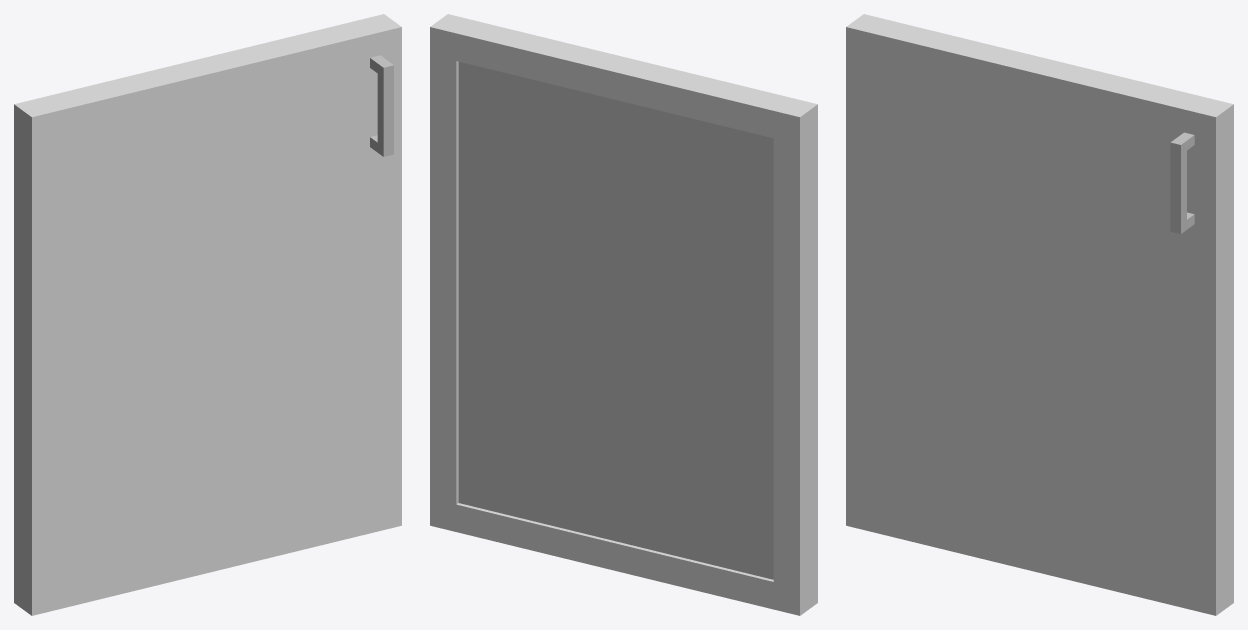
Rendered from Refrigerator2_C1_03.fbx.
The picture shows the model from 3 angles, left to right: view 1: azimuth 30°, elevation 25°; view 2: azimuth 150°, elevation 25°; view 3: azimuth 330°, elevation 25°; orthographic projection.
Visible parts, largest first — view 1: Refrigerator2_C1_03; view 2: Refrigerator2_C1_03; view 3: Refrigerator2_C1_03.
Part boxes in pixels (x1,y1,x2,y2): Refrigerator2_C1_03: (14, 14, 401, 615); Refrigerator2_C1_03: (430, 14, 817, 615); Refrigerator2_C1_03: (846, 14, 1233, 615).
Bounding box in the file's own units: 60 × 77.27 × 8.84.
